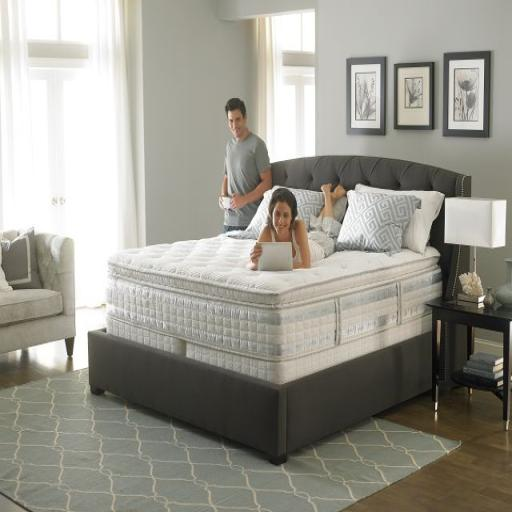bed: (88, 156, 466, 458)
sofa: (1, 229, 76, 362)
